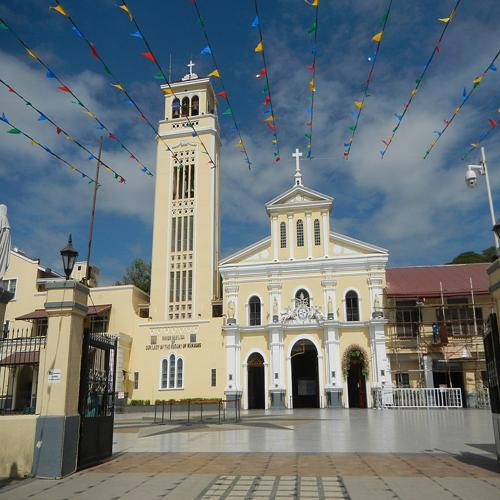Manaoag Church: (136, 53, 397, 427)
